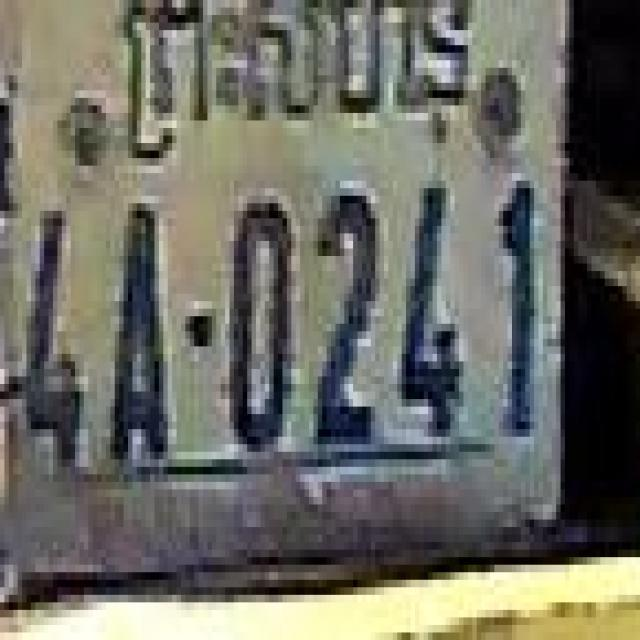Preah_Sihanouk: (119, 0, 468, 156)
